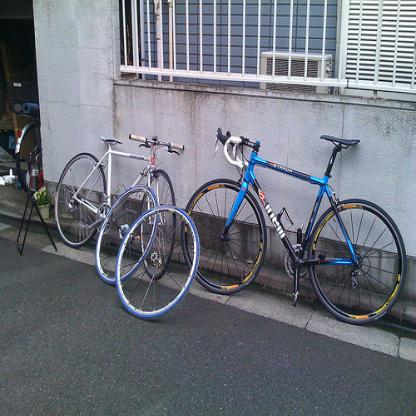bicycle: (182, 127, 406, 326), (56, 134, 184, 282)
